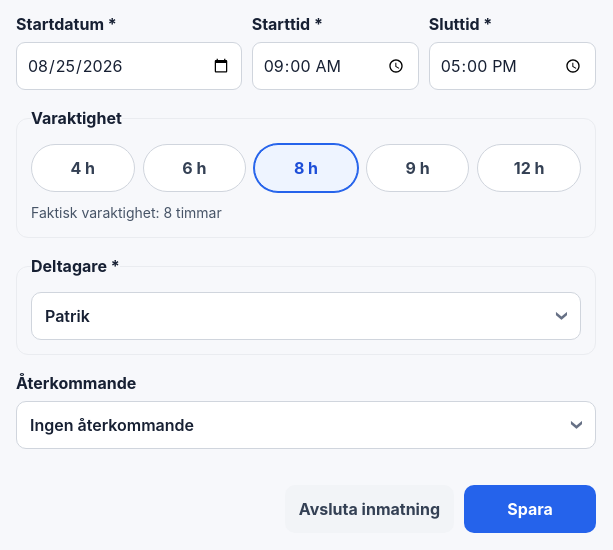
Scenario: JobShiftQuickEntryForm › synkroniserar fri sluttid och preset i båda riktningarna
The width and height of the screenshot is (613, 550).
In the date field labelled "Startdatum *": (129, 66) [27,44,231,88], type "2026-08-18"
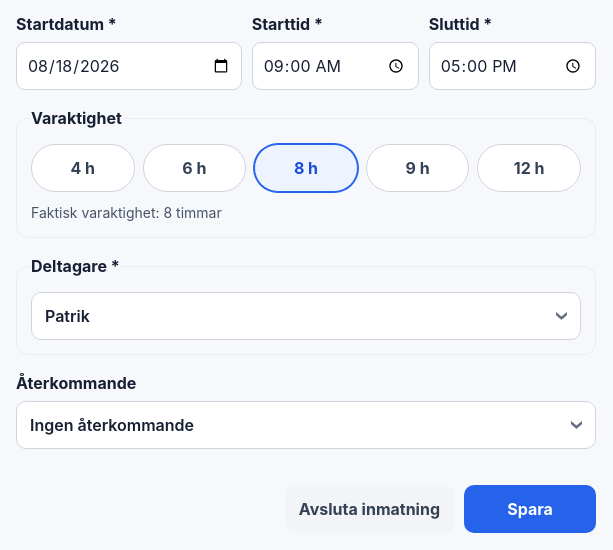
Replace the text in the time field labelled "Starttid *" with "07:00": (335, 66) [263,44,408,88]
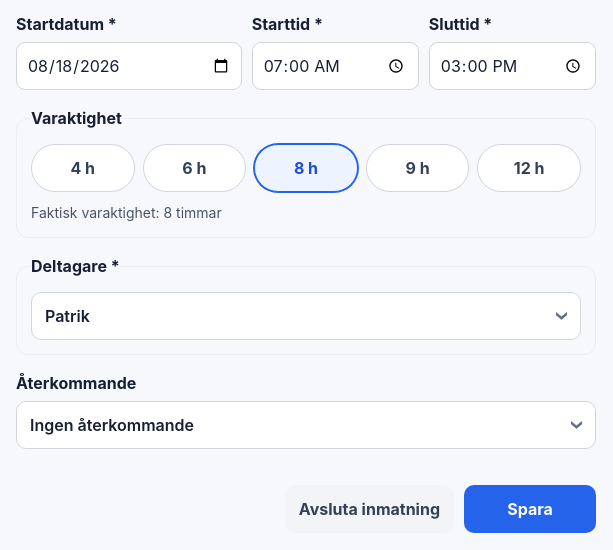
Check: the time field labelled "Sluttid *" holds "15:00"
Replace the text in the time field labelled "Sluttid *" with "15:30": (512, 66) [440,44,585,88]
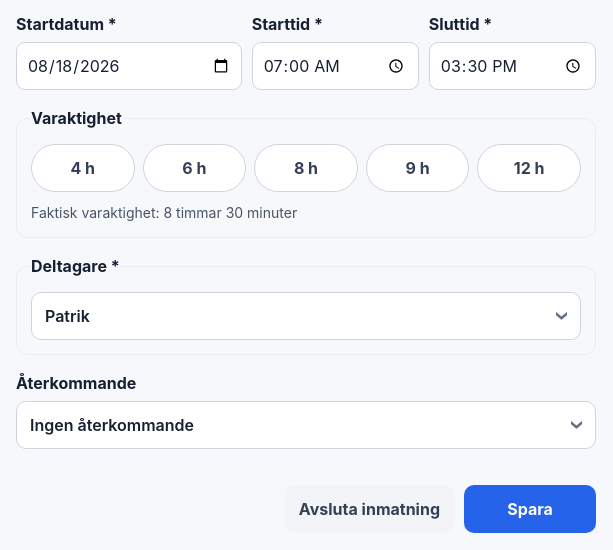
Check: the text "Faktisk varaktighet: 8 timmar 30 minuter" is shown, box [31,204,297,221]
Click the button named "8 timmar": (306, 168) [254,144,358,192]
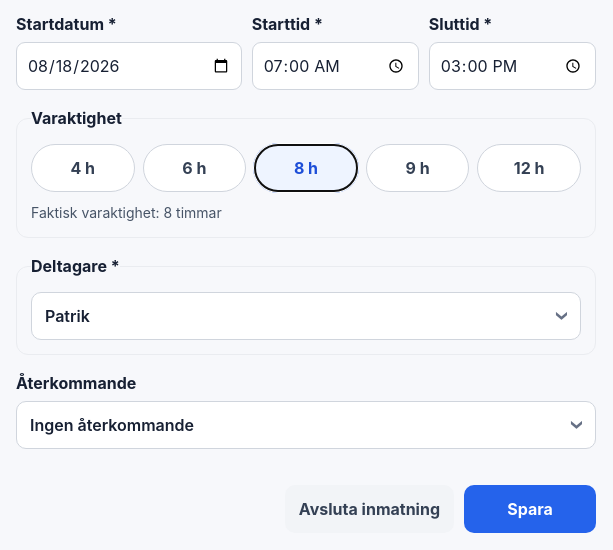
Check: the time field labelled "Sluttid *" holds "15:00", box [440,44,585,88]
